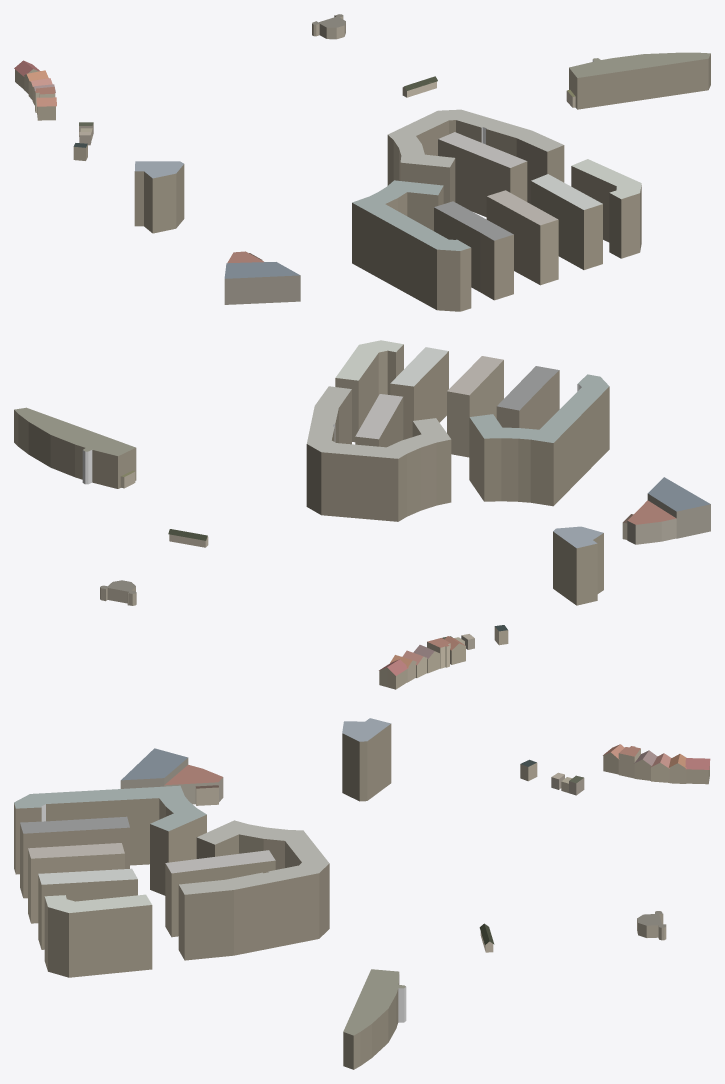
3 views of the same model, one above another, from view 1: azimuth 30°, elevation 25°; view 2: azimuth 150°, elevation 25°; view 3: azimuth 270°, elevation 25° (orthographic). The views are drawn at different scales.
Parts seen in each view (by area): view 1: tuile; view 2: tuile; view 3: tuile.
Part boxes in pixels (x1,y1,x2,y2): tuile: [14, 14, 710, 311]; tuile: [14, 340, 710, 689]; tuile: [14, 718, 710, 1069].
Size of the model in its own units: 281 by 30.05 by 271.
